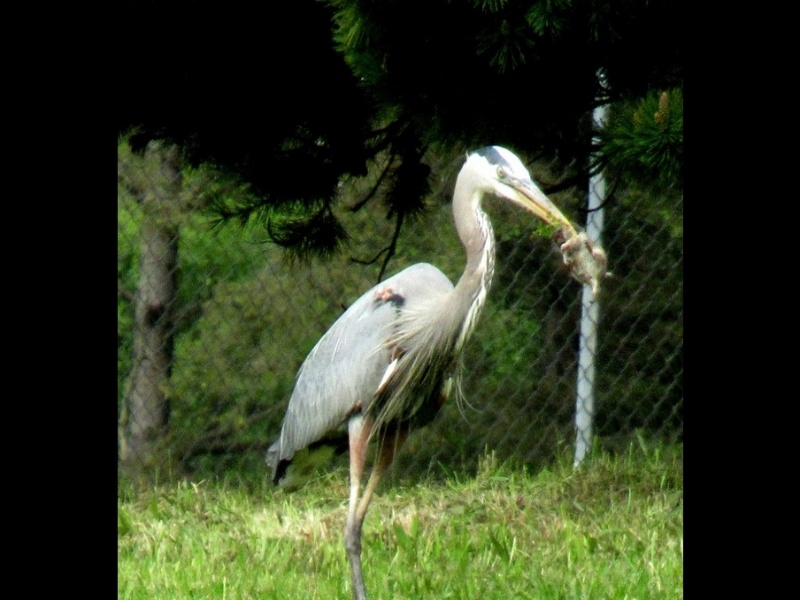heron: (262, 139, 585, 600)
